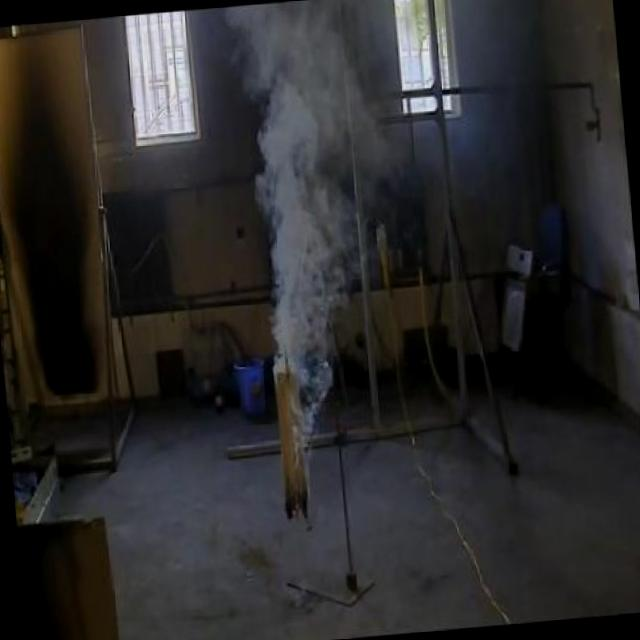smoke: (207, 0, 381, 449)
